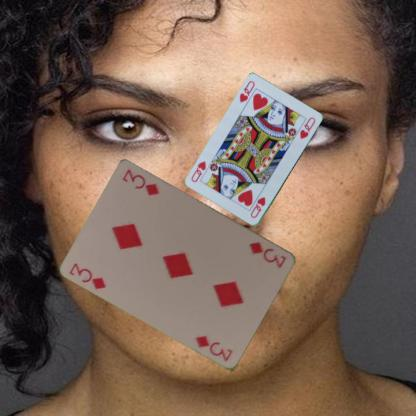3d: (66, 260, 108, 291), (247, 239, 288, 270)
Qh: (248, 194, 267, 219), (237, 79, 256, 104)
